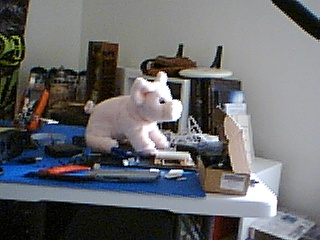piggy: (84, 70, 184, 155)
